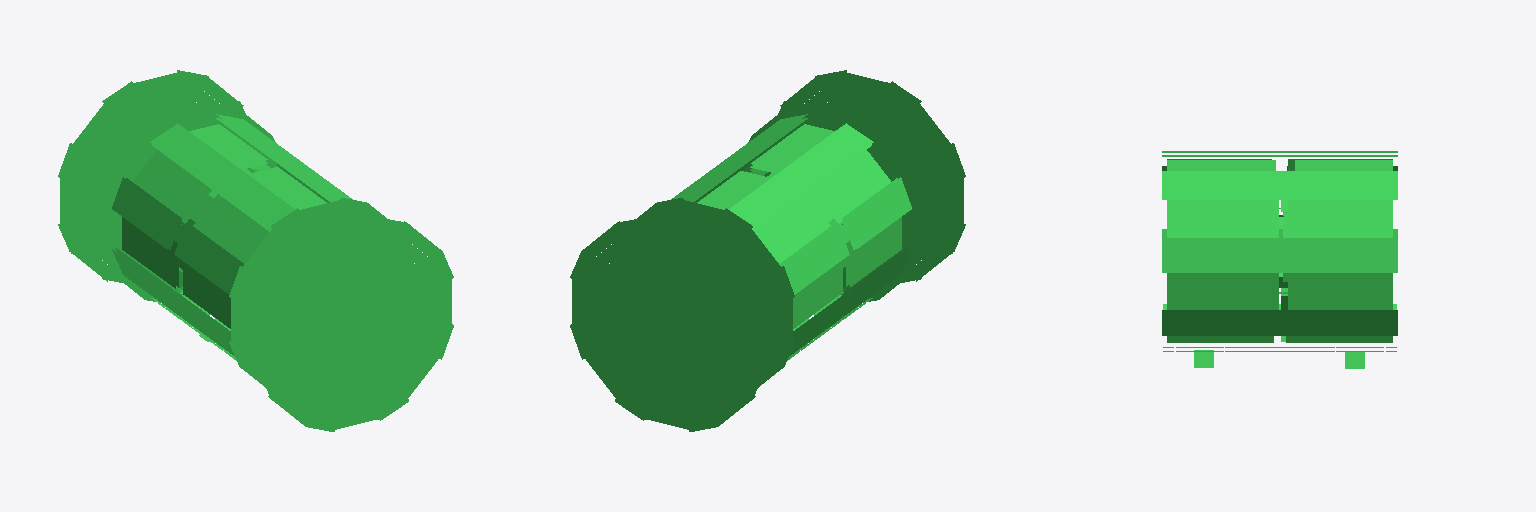
Rendered from muons_sensitives.obj.
3 renders of one model, left to right at view 1: azimuth 30°, elevation 25°; view 2: azimuth 150°, elevation 25°; view 3: azimuth 270°, elevation 25°, orthographic.
Size of the model in its own units: 24320 by 25460 by 43940.